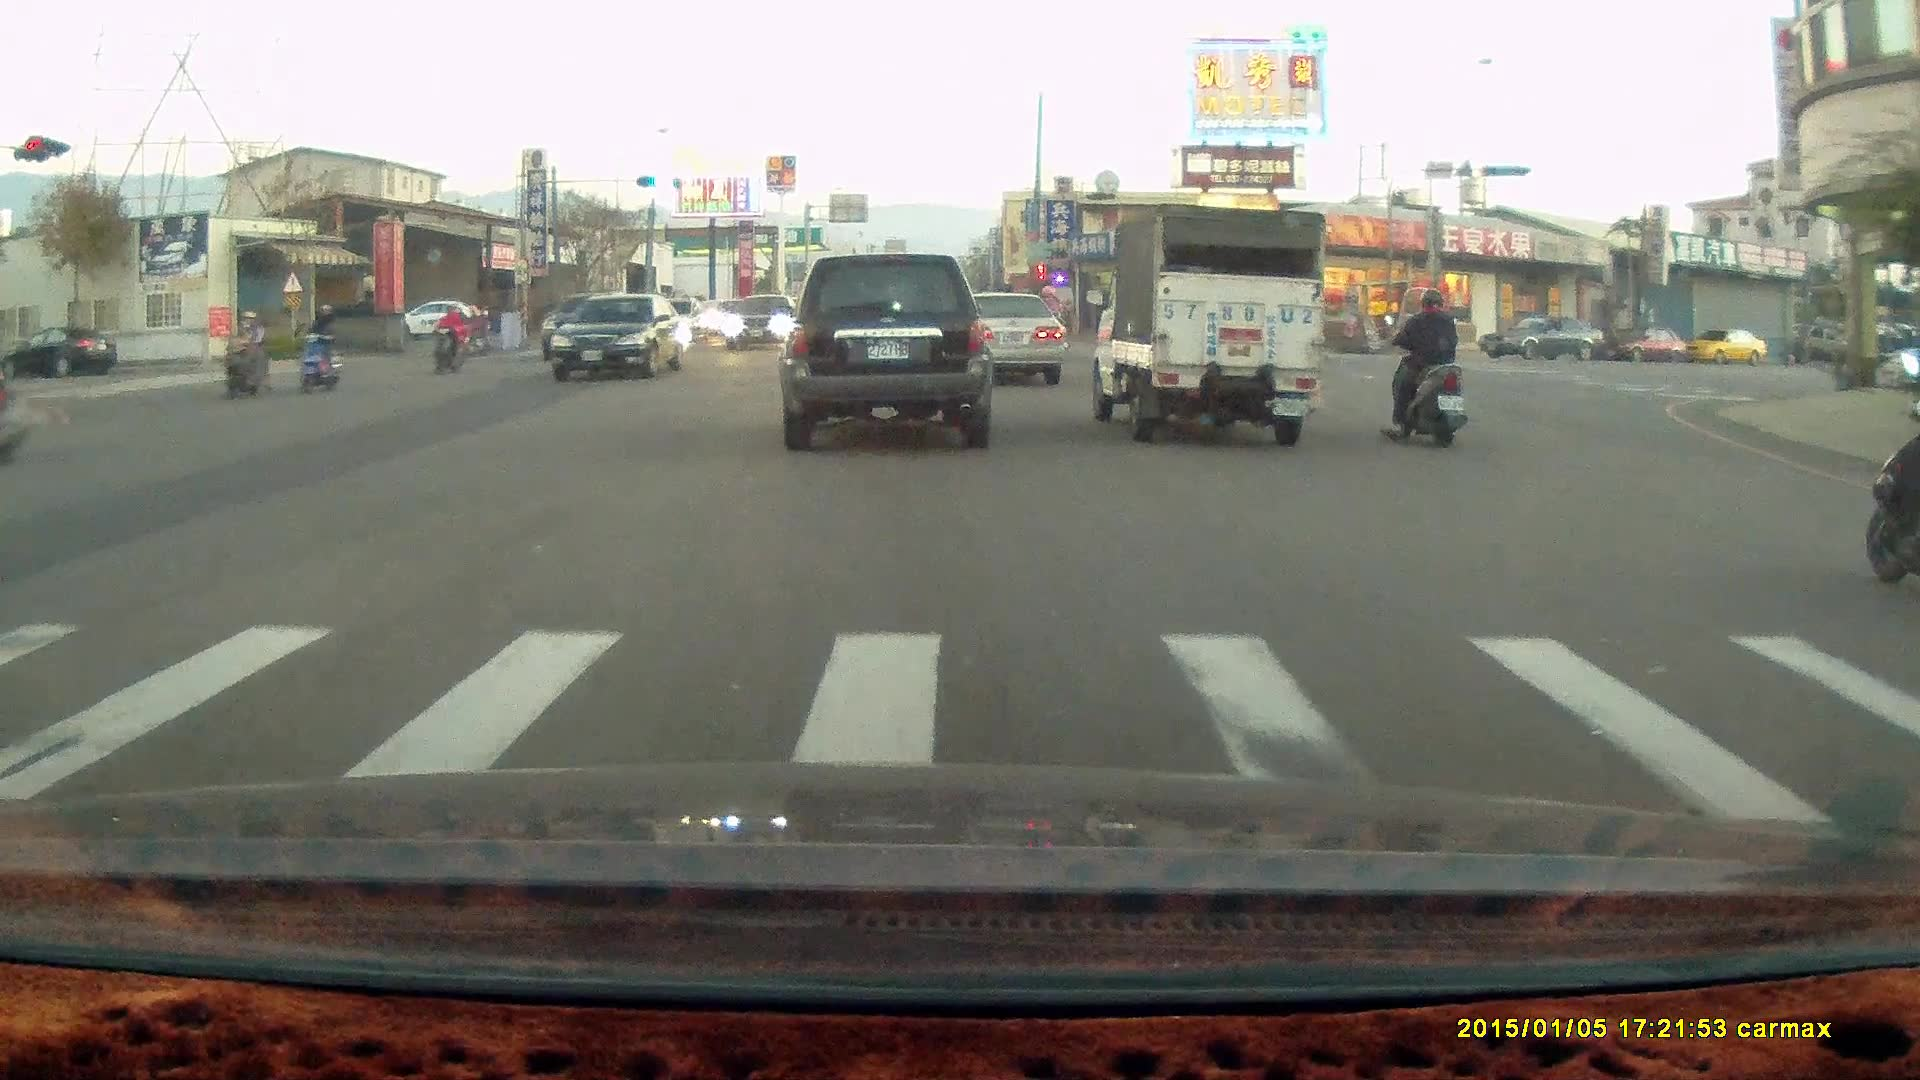rider: (1860, 366, 1920, 587), (1381, 287, 1465, 445), (214, 308, 272, 403), (293, 302, 341, 393), (432, 302, 468, 375)
vehicle: (1082, 206, 1327, 448), (776, 251, 994, 452), (550, 295, 693, 385), (946, 289, 1067, 387), (954, 290, 1069, 388), (1477, 310, 1608, 362), (722, 294, 801, 353), (405, 300, 488, 345), (1684, 326, 1771, 365), (1610, 326, 1690, 363)
